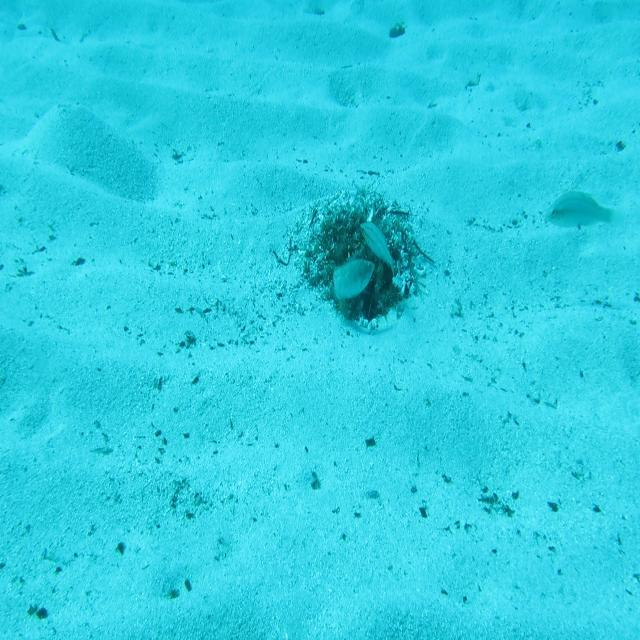DAN_CIRC: (328, 254, 376, 305)
female: (358, 218, 397, 280)
nest: (307, 184, 426, 324)
other_fish: (542, 182, 632, 240)
